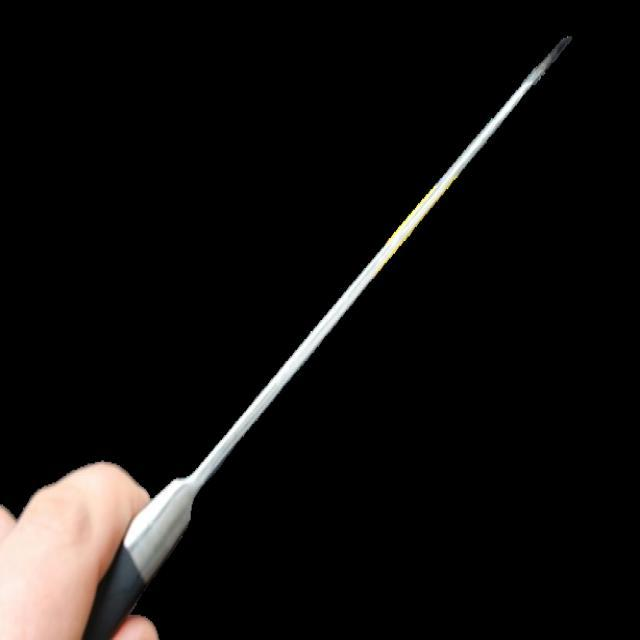knife: (80, 32, 577, 638)
